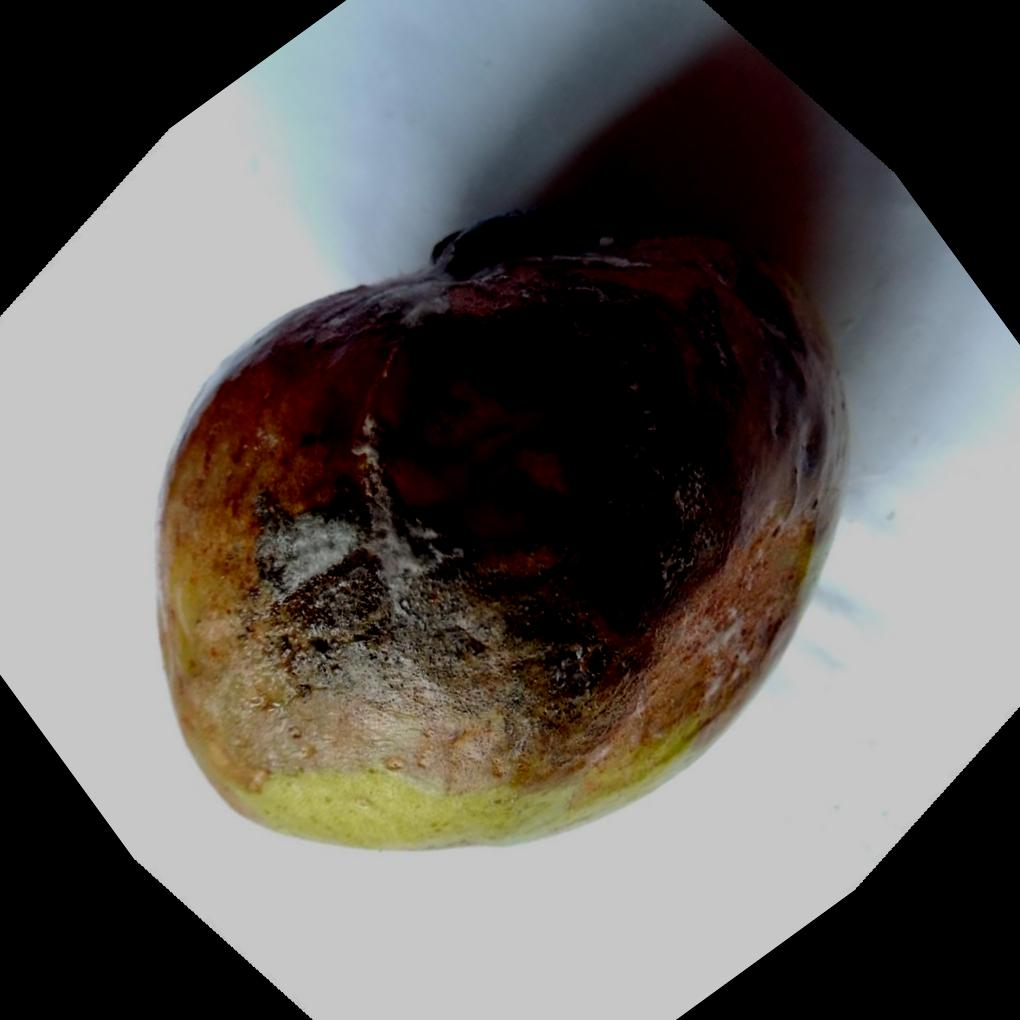FreshOrange: (152, 205, 848, 851)
